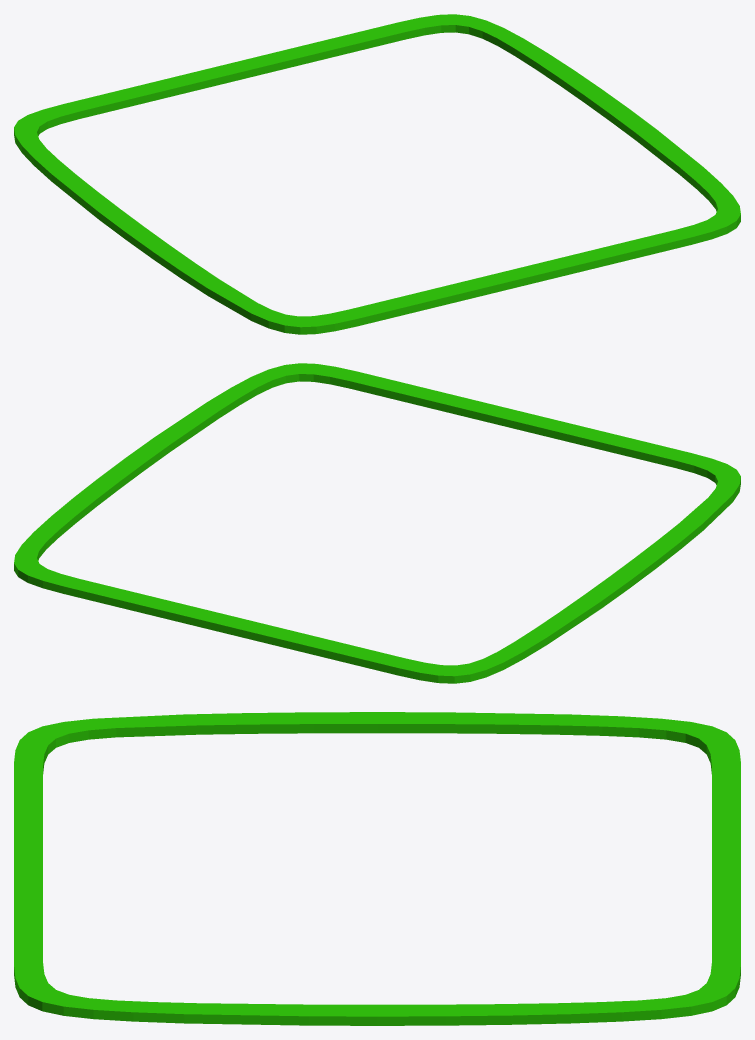
The model's file is SelectionOutline.fbx.
3 renders of one model, top to bottom at view 1: azimuth 30°, elevation 25°; view 2: azimuth 150°, elevation 25°; view 3: azimuth 270°, elevation 25°, orthographic. The views are drawn at different scales.
Parts seen in each view (by area): view 1: SelectionOutline; view 2: SelectionOutline; view 3: SelectionOutline.
Boxes of the visible parts, bbox=[...] form: SelectionOutline: bbox=[14, 14, 740, 334]; SelectionOutline: bbox=[14, 363, 740, 683]; SelectionOutline: bbox=[14, 712, 740, 1025].
Bounding box in the file's own units: 350 × 5 × 354.
